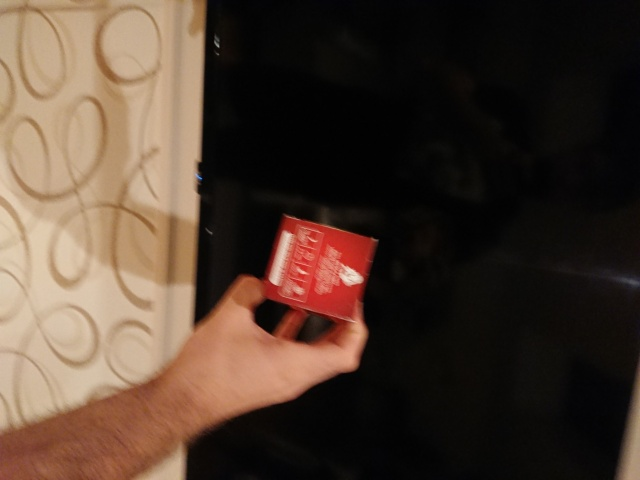Franck Apple Cinnamon Tea 60g: (257, 210, 381, 326)
